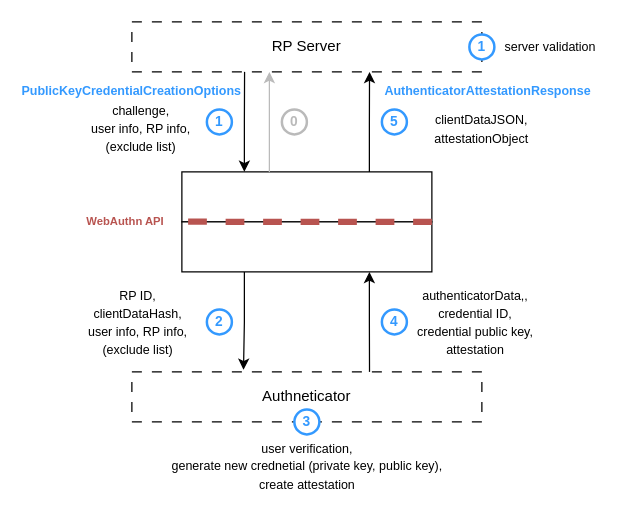
Image size: 628x514. Some labels were removed from this diagram. The centre of each missing label's shape, as x and y in pixels:
"Browser" goes at (x=306, y=246).
"RP JavaScript Application" goes at (x=306, y=196).
